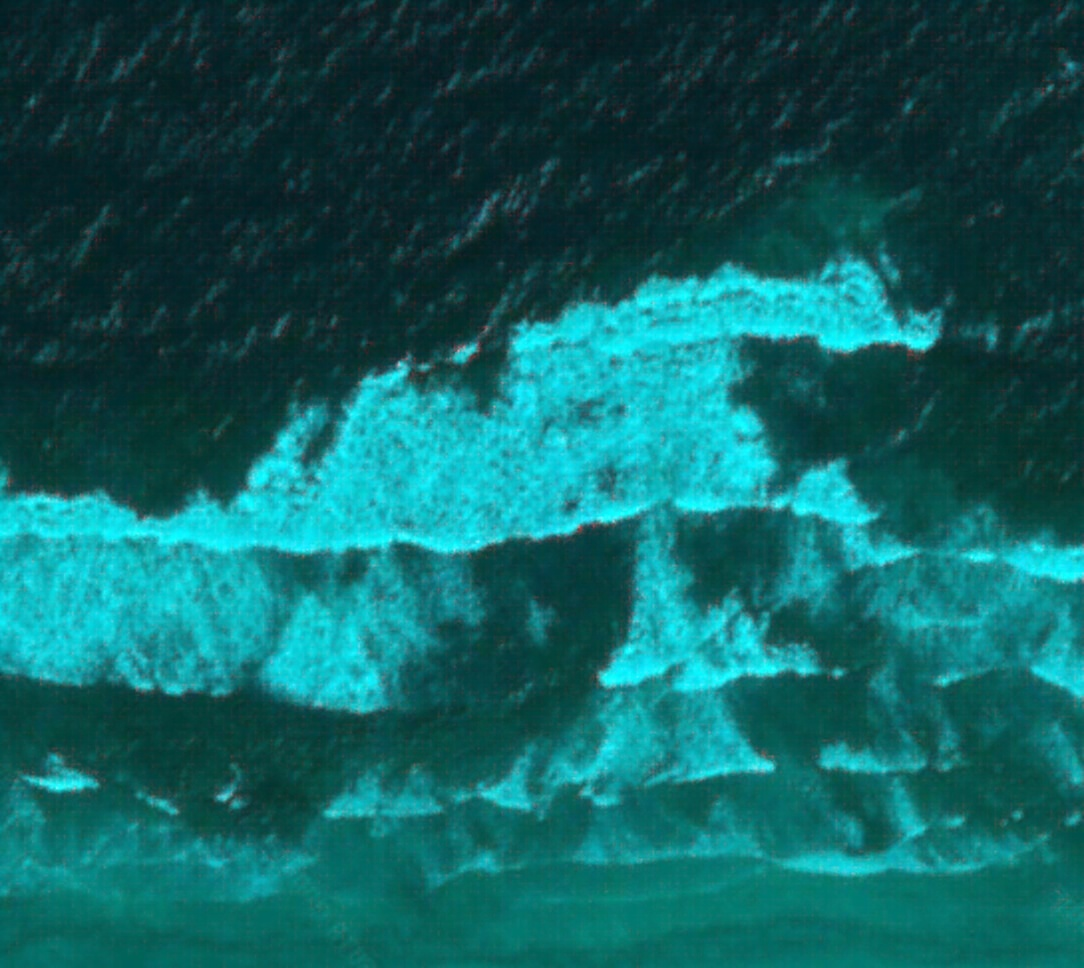rip_current: (349, 402, 700, 818)
